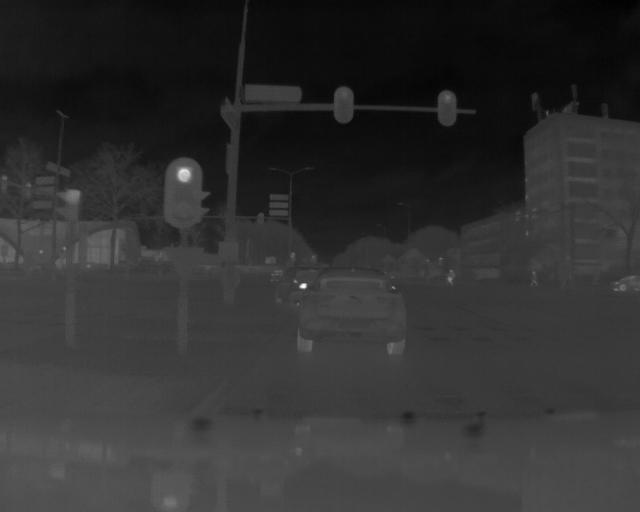car: (294, 268, 410, 353)
person: (446, 268, 456, 287), (530, 269, 539, 289)
